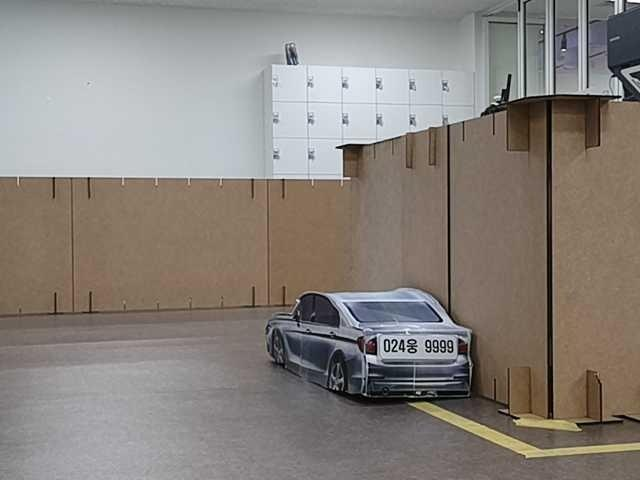car: (261, 280, 480, 407)
id: (377, 330, 460, 362)
